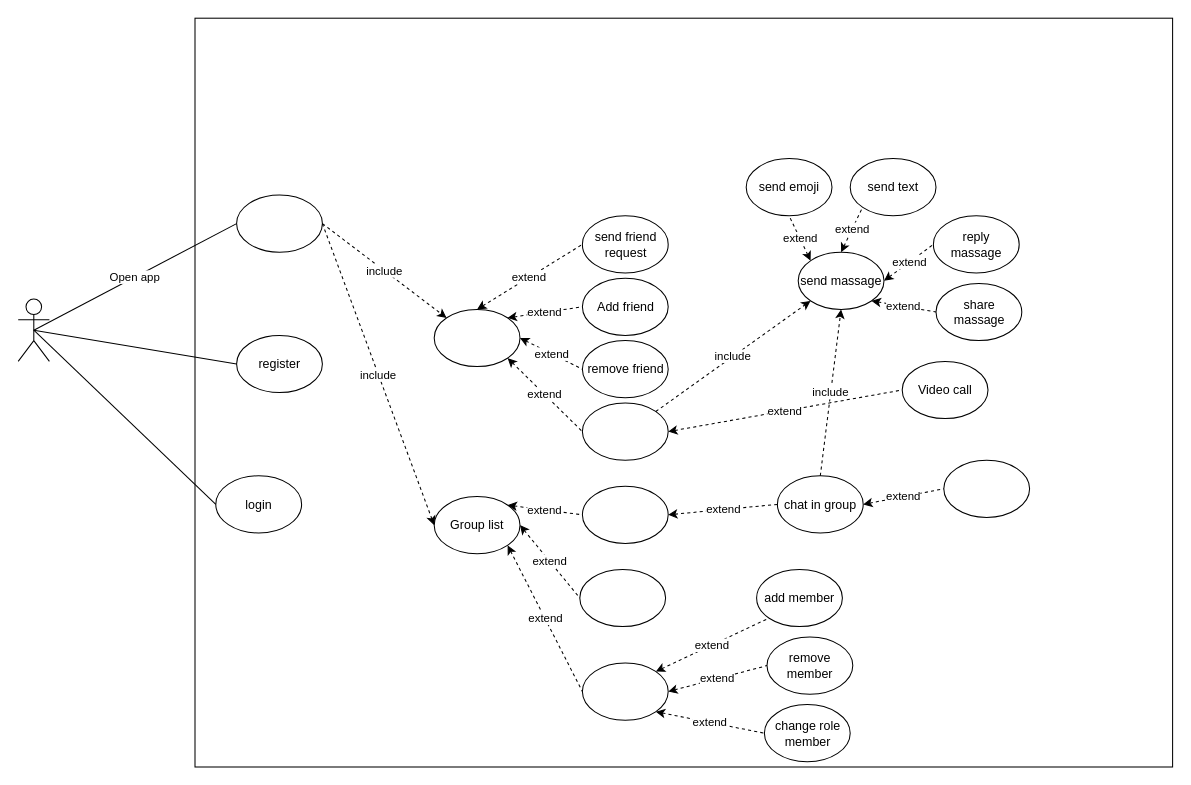
Some shapes in this 1191 by 785 pixel diagram are drawn without their labels. The shapes that lost their labels are listed below. From the top down, each one's centre as x and y in pixels, then its label:
the point at 279,223: app interface
the point at 33,329: User
the point at 476,337: Friend list
the point at 624,431: chat with friend
the point at 986,488: stream party
the point at 624,514: join group
the point at 622,597: create group
the point at 624,691: manage group
